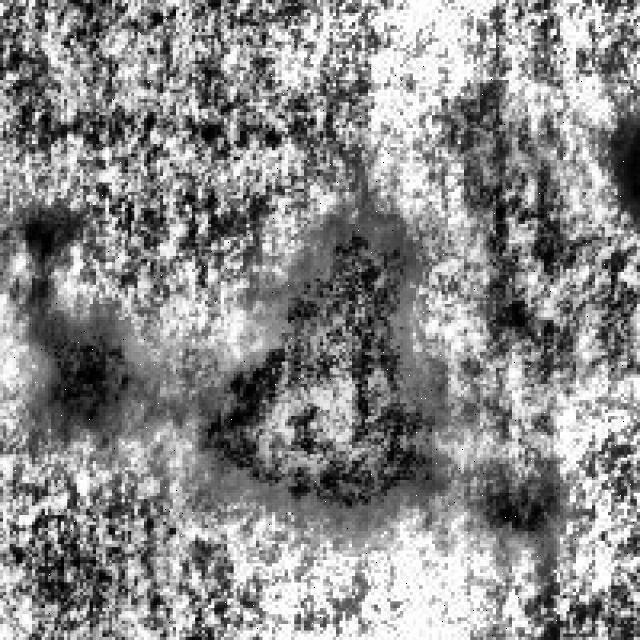Scratches: (192, 215, 445, 524), (32, 298, 147, 436)
